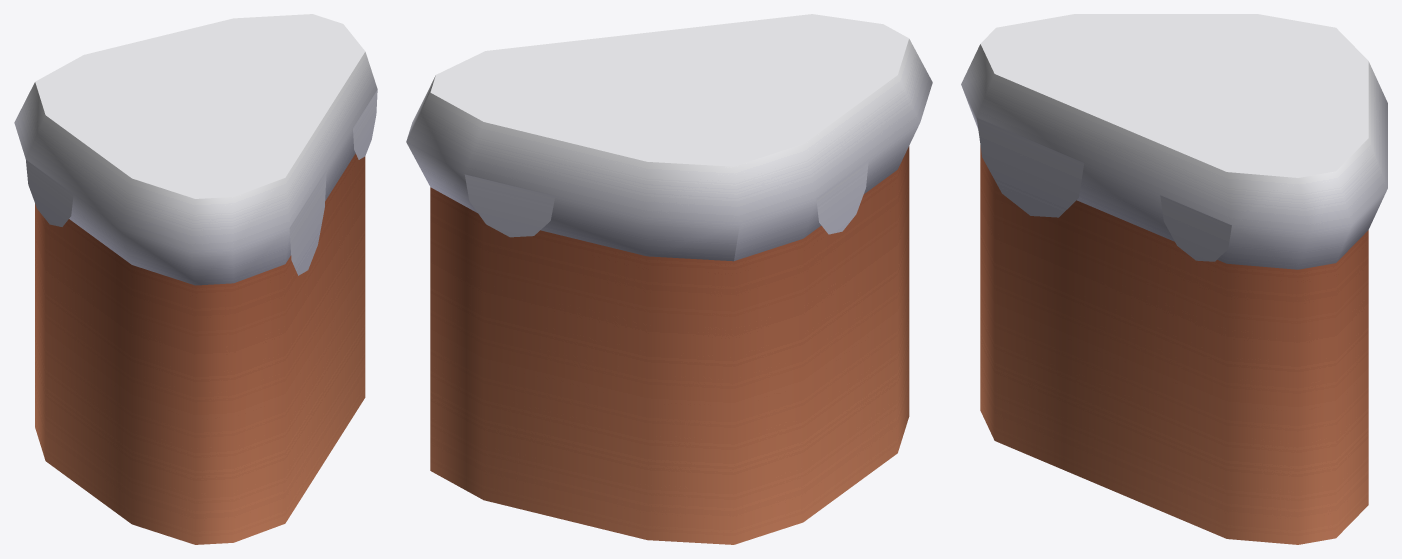
File: block-snow-corner-overhang.glb
The picture shows the model from 3 angles, left to right: view 1: azimuth 30°, elevation 25°; view 2: azimuth 150°, elevation 25°; view 3: azimuth 270°, elevation 25°; orthographic projection. The views are drawn at different scales.
Visible parts, largest first — view 1: block-snow-corner-overhang; view 2: block-snow-corner-overhang; view 3: block-snow-corner-overhang.
Part boxes in pixels (left/top/right/bottom): block-snow-corner-overhang: left=14, top=14, right=377, bottom=544; block-snow-corner-overhang: left=406, top=14, right=932, bottom=544; block-snow-corner-overhang: left=961, top=14, right=1387, bottom=544.
Size of the model in its own units: 1.05 by 1 by 1.05.
Materials: 1 (1 with a texture image).
